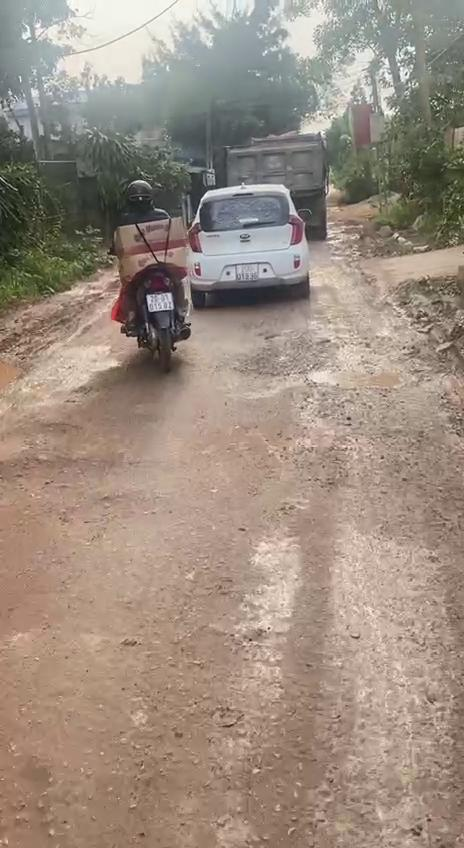pothole: (304, 359, 414, 394)
